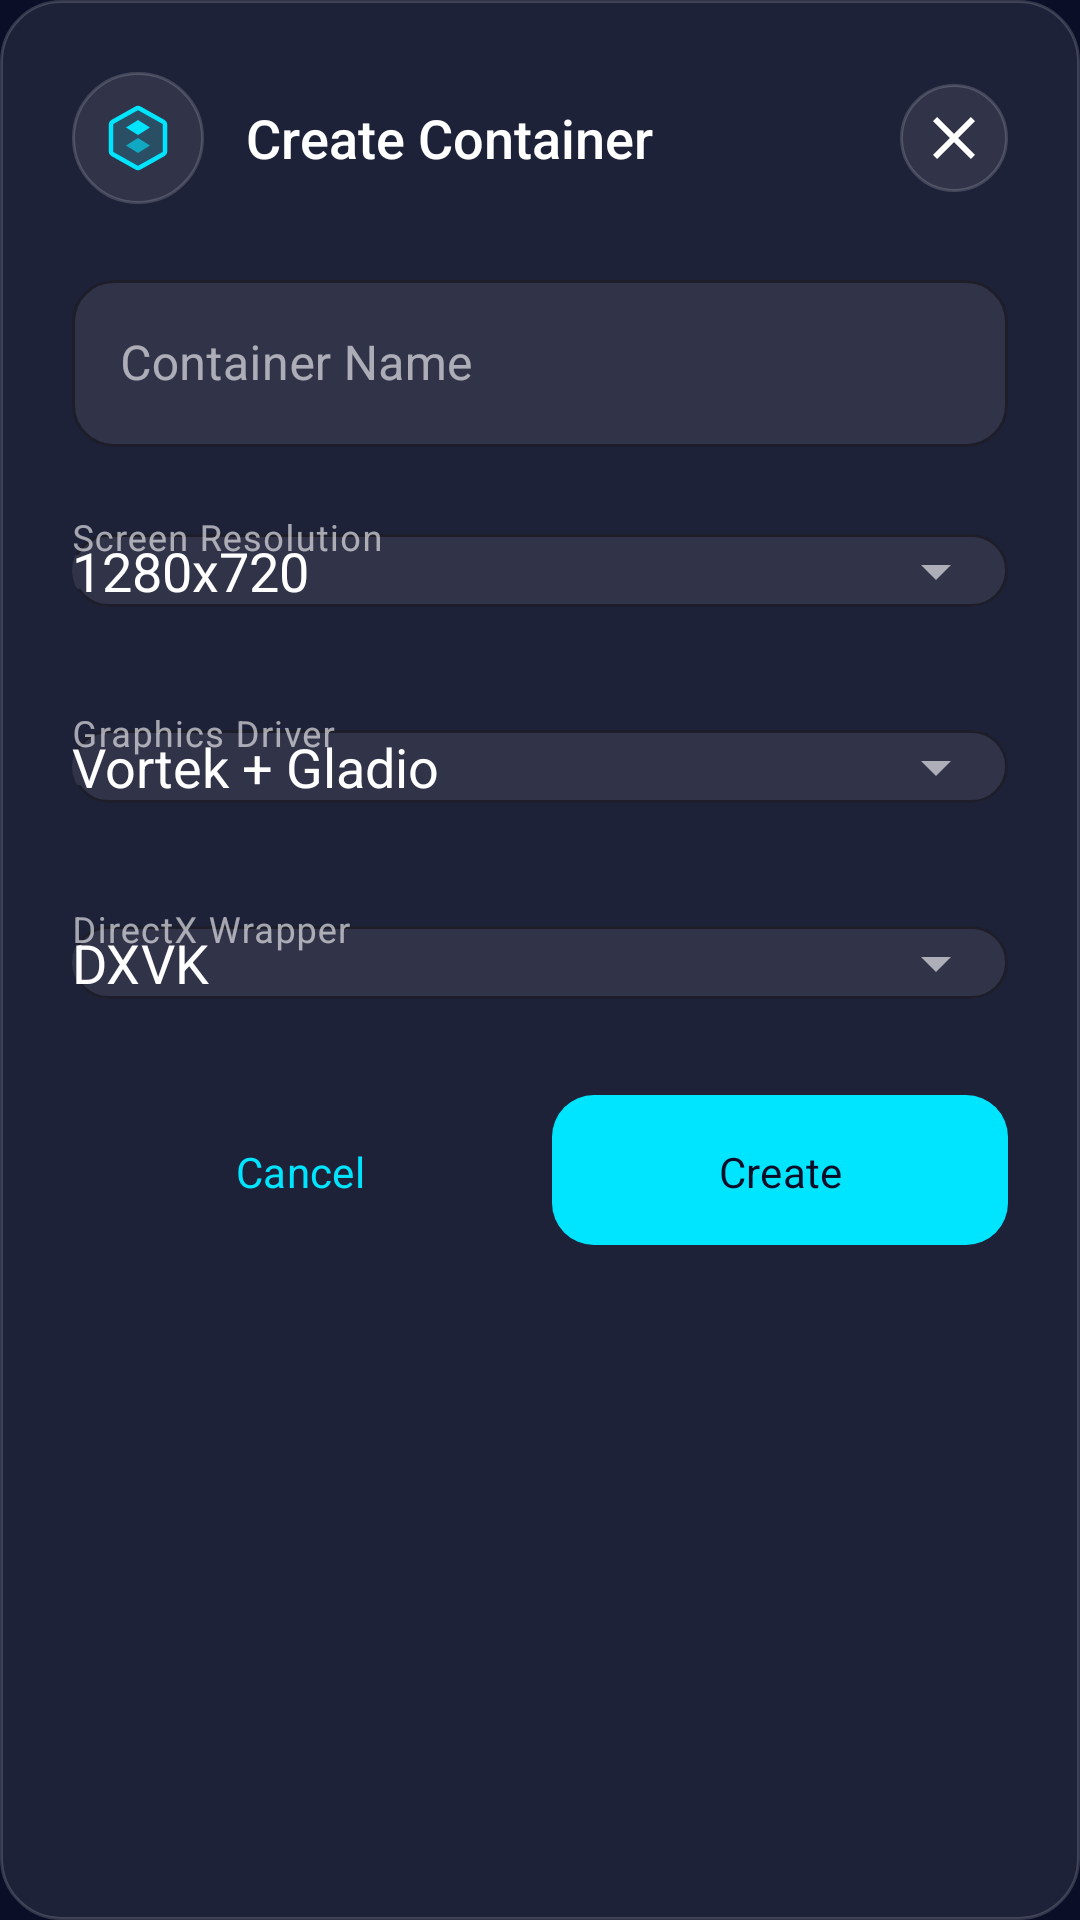

Where icons sit on this 1080x1920 app screen, as (x1, y1, x2, y2):
Close: (900, 84, 1008, 192)
